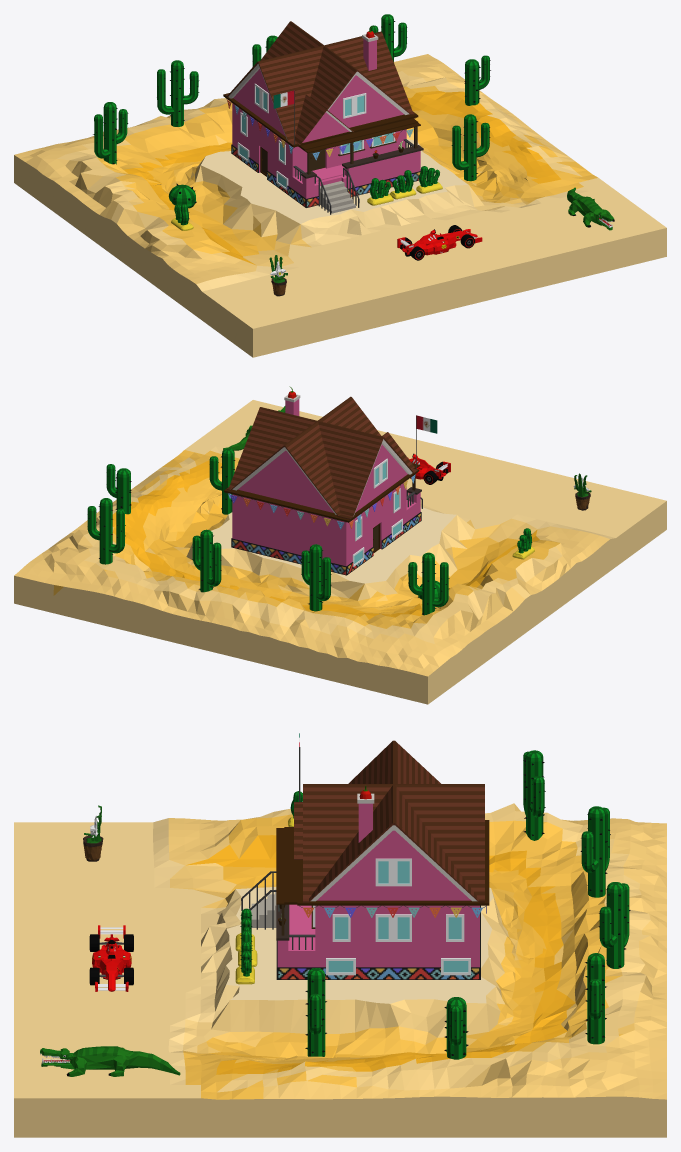
3 renders of one model, top to bottom at view 1: azimuth 30°, elevation 25°; view 2: azimuth 150°, elevation 25°; view 3: azimuth 270°, elevation 25°, orthographic. The views are drawn at different scales.
Parts seen in each view (by area): view 1: Cube.001, Cube.1005, Cylinder.044, Cylinder.037, Cylinder.045, VEHICLES_FORMULA_1, ANIMAL_COCODRILO, Cylinder.038, Cylinder.042, OBJRANDOM_MONJA BLANCA, Cylinder.039, Cylinder.041; view 2: Cube.001, Cube.1005, Cylinder.042, Cylinder.045, Cylinder.044, Cylinder.043, Cylinder.037, Cylinder.038, VEHICLES_FORMULA_1; view 3: Cube.001, Cube.1005, ANIMAL_COCODRILO, VEHICLES_FORMULA_1, Cylinder.043, Cylinder.044, Cylinder.045, Cylinder.037, Cylinder.042, Cylinder.038, OBJRANDOM_MONJA BLANCA, Cylinder.041.
Part boxes in pixels (x1,y1,x2,y2): Cube.001: (14, 54, 666, 357); Cube.1005: (223, 21, 423, 214); Cylinder.044: (157, 60, 199, 126); Cylinder.037: (451, 114, 490, 181); Cylinder.045: (93, 102, 128, 164); VEHICLES_FORMULA_1: (397, 225, 482, 260); ANIMAL_COCODRILO: (567, 187, 614, 230); Cylinder.038: (464, 55, 490, 105); Cylinder.042: (369, 14, 407, 61); OBJRANDOM_MONJA BLANCA: (269, 255, 287, 296); Cylinder.039: (367, 178, 393, 205); Cylinder.041: (416, 166, 442, 193); Cube.001: (14, 400, 666, 704); Cube.1005: (224, 386, 437, 575); Cylinder.042: (87, 498, 125, 564); Cylinder.045: (408, 552, 449, 615); Cylinder.044: (301, 544, 331, 611); Cylinder.043: (192, 529, 221, 592); Cylinder.037: (209, 448, 239, 514); Cylinder.038: (106, 464, 131, 514); VEHICLES_FORMULA_1: (408, 453, 450, 484); Cube.001: (14, 803, 666, 1137); Cube.1005: (241, 733, 489, 979); ANIMAL_COCODRILO: (40, 1046, 180, 1076); VEHICLES_FORMULA_1: (89, 925, 133, 991); Cylinder.043: (598, 882, 630, 968); Cylinder.044: (580, 806, 610, 897); Cylinder.045: (523, 750, 545, 840); Cylinder.037: (305, 968, 326, 1056); Cylinder.042: (585, 953, 606, 1044); Cylinder.038: (444, 997, 468, 1059); OBJRANDOM_MONJA BLANCA: (83, 805, 103, 861); Cylinder.041: (235, 941, 254, 984).
Size of the model in its own units: 4002 by 1721 by 4001.
70 materials, 4 textured.
